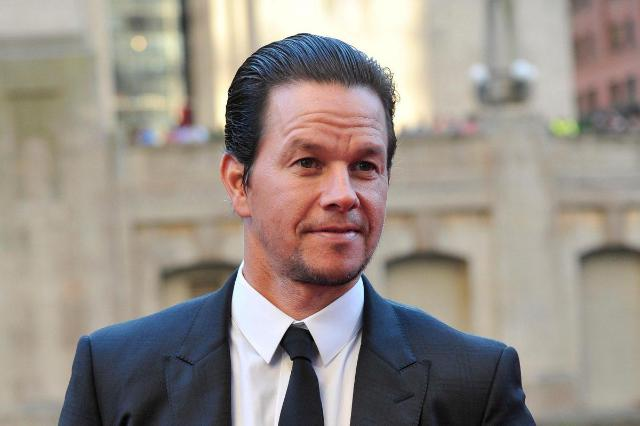forehead: (346, 115, 374, 136), (316, 112, 340, 134), (285, 121, 305, 136)
gummy_smile: (291, 196, 315, 229), (358, 200, 378, 229)
